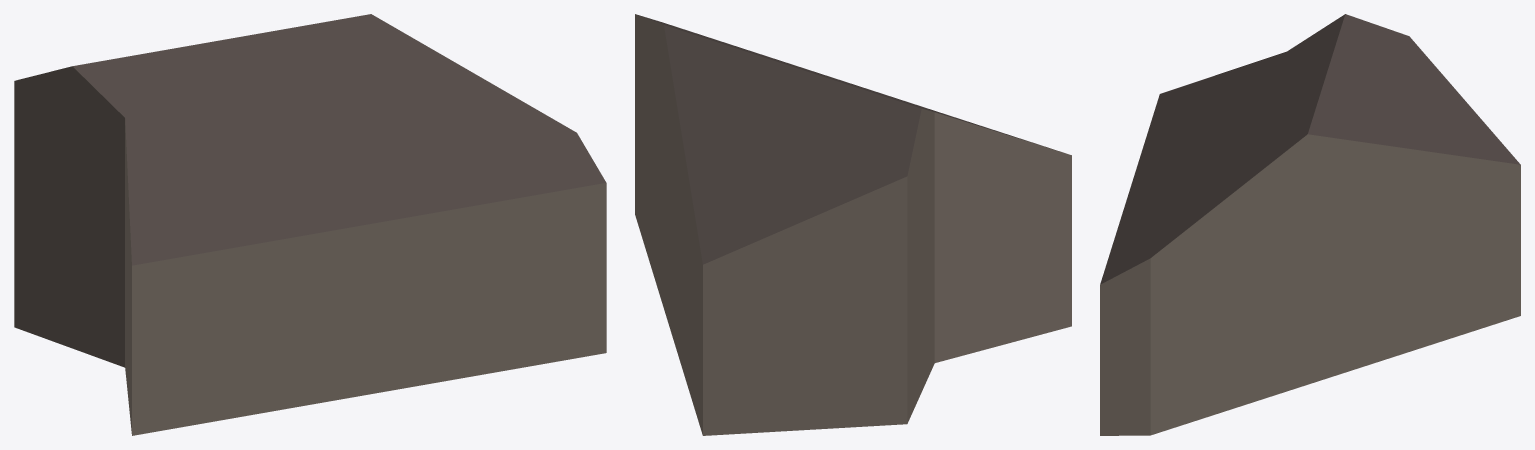
3 renders of one model, left to right at view 1: azimuth 30°, elevation 25°; view 2: azimuth 150°, elevation 25°; view 3: azimuth 270°, elevation 25°, orthographic. The views are drawn at different scales.
Visible parts, largest first — view 1: HP-w178731811; view 2: HP-w178731811; view 3: HP-w178731811.
Part boxes in pixels (<box>): HP-w178731811: <box>14,14,606,435</box>; HP-w178731811: <box>635,14,1071,435</box>; HP-w178731811: <box>1100,14,1520,435</box>.
Bounding box in the file's own units: 24.38 × 14.92 × 22.72.
